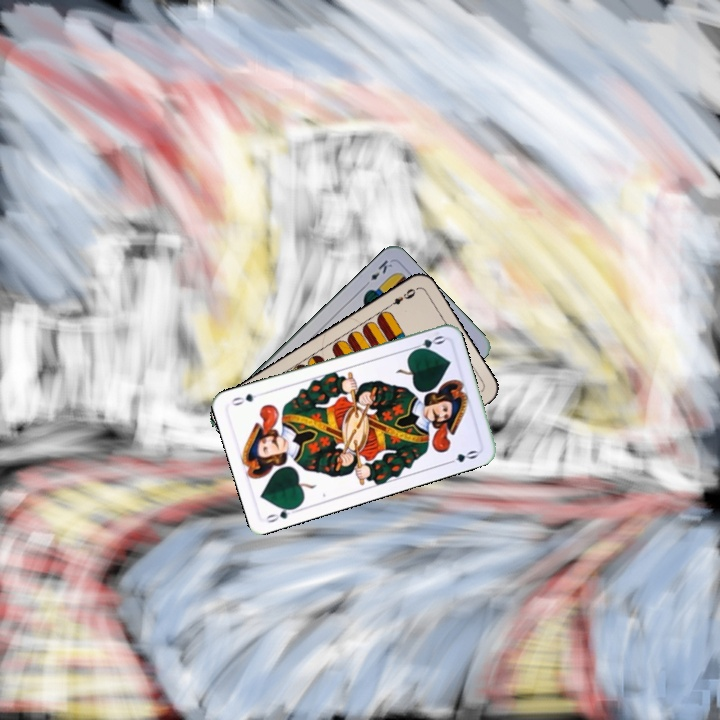E9: (383, 284, 419, 311)
EK: (361, 256, 395, 289)
GO: (407, 331, 447, 355), (262, 502, 302, 525)
